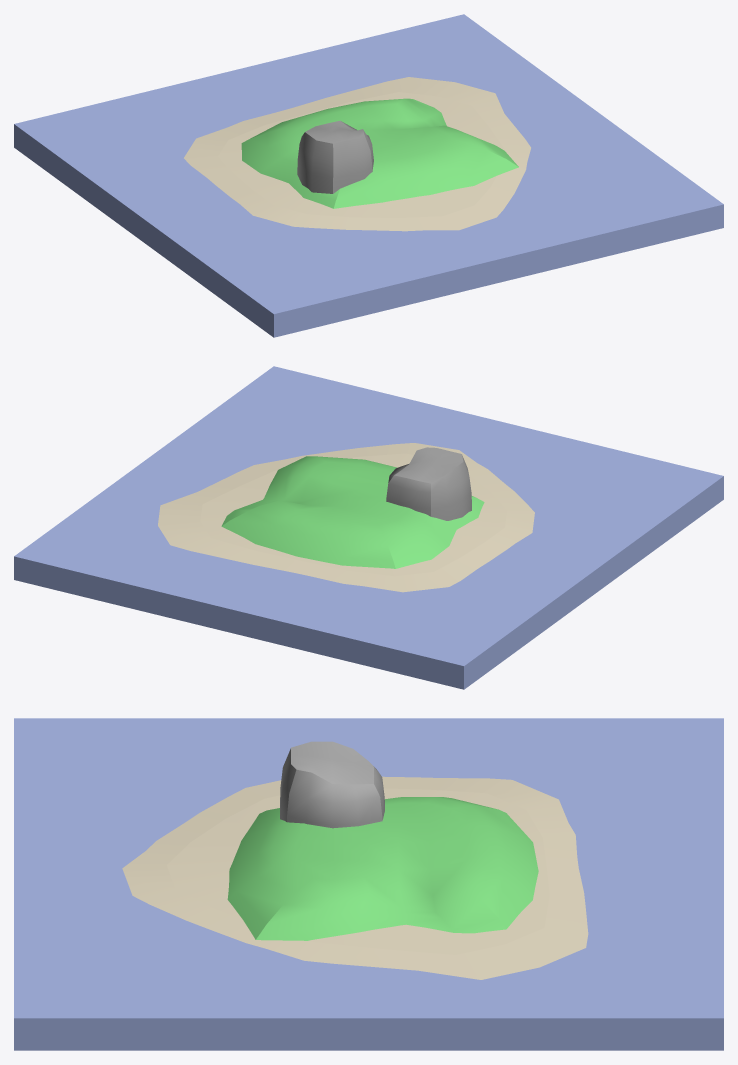
3 views of the same model, one above another, from view 1: azimuth 30°, elevation 25°; view 2: azimuth 150°, elevation 25°; view 3: azimuth 270°, elevation 25° (orthographic). The views are drawn at different scales.
Visible parts, largest first — view 1: water, sand, pCube1, pCube2; view 2: water, sand, pCube1, pCube2; view 3: water, pCube1, sand, pCube2.
Part boxes in pixels (x1,y1,x2,y2): water: [14, 14, 723, 337]; sand: [184, 77, 530, 231]; pCube1: [241, 98, 518, 208]; pCube2: [297, 120, 373, 193]; water: [14, 366, 723, 689]; sand: [158, 443, 534, 592]; pCube1: [221, 456, 484, 568]; pCube2: [386, 447, 471, 520]; water: [14, 718, 723, 1050]; pCube1: [227, 797, 538, 940]; sand: [122, 776, 588, 979]; pCube2: [280, 741, 384, 828].
Size of the model in its own units: 100 by 17.1 by 100.
